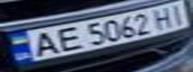0: (103, 17, 124, 43)
2: (130, 10, 157, 36)
5: (81, 19, 109, 46)
6: (118, 14, 139, 39)
A: (21, 29, 63, 57)
E: (48, 25, 84, 53)
H: (148, 6, 178, 29)
I: (163, 2, 190, 27)
